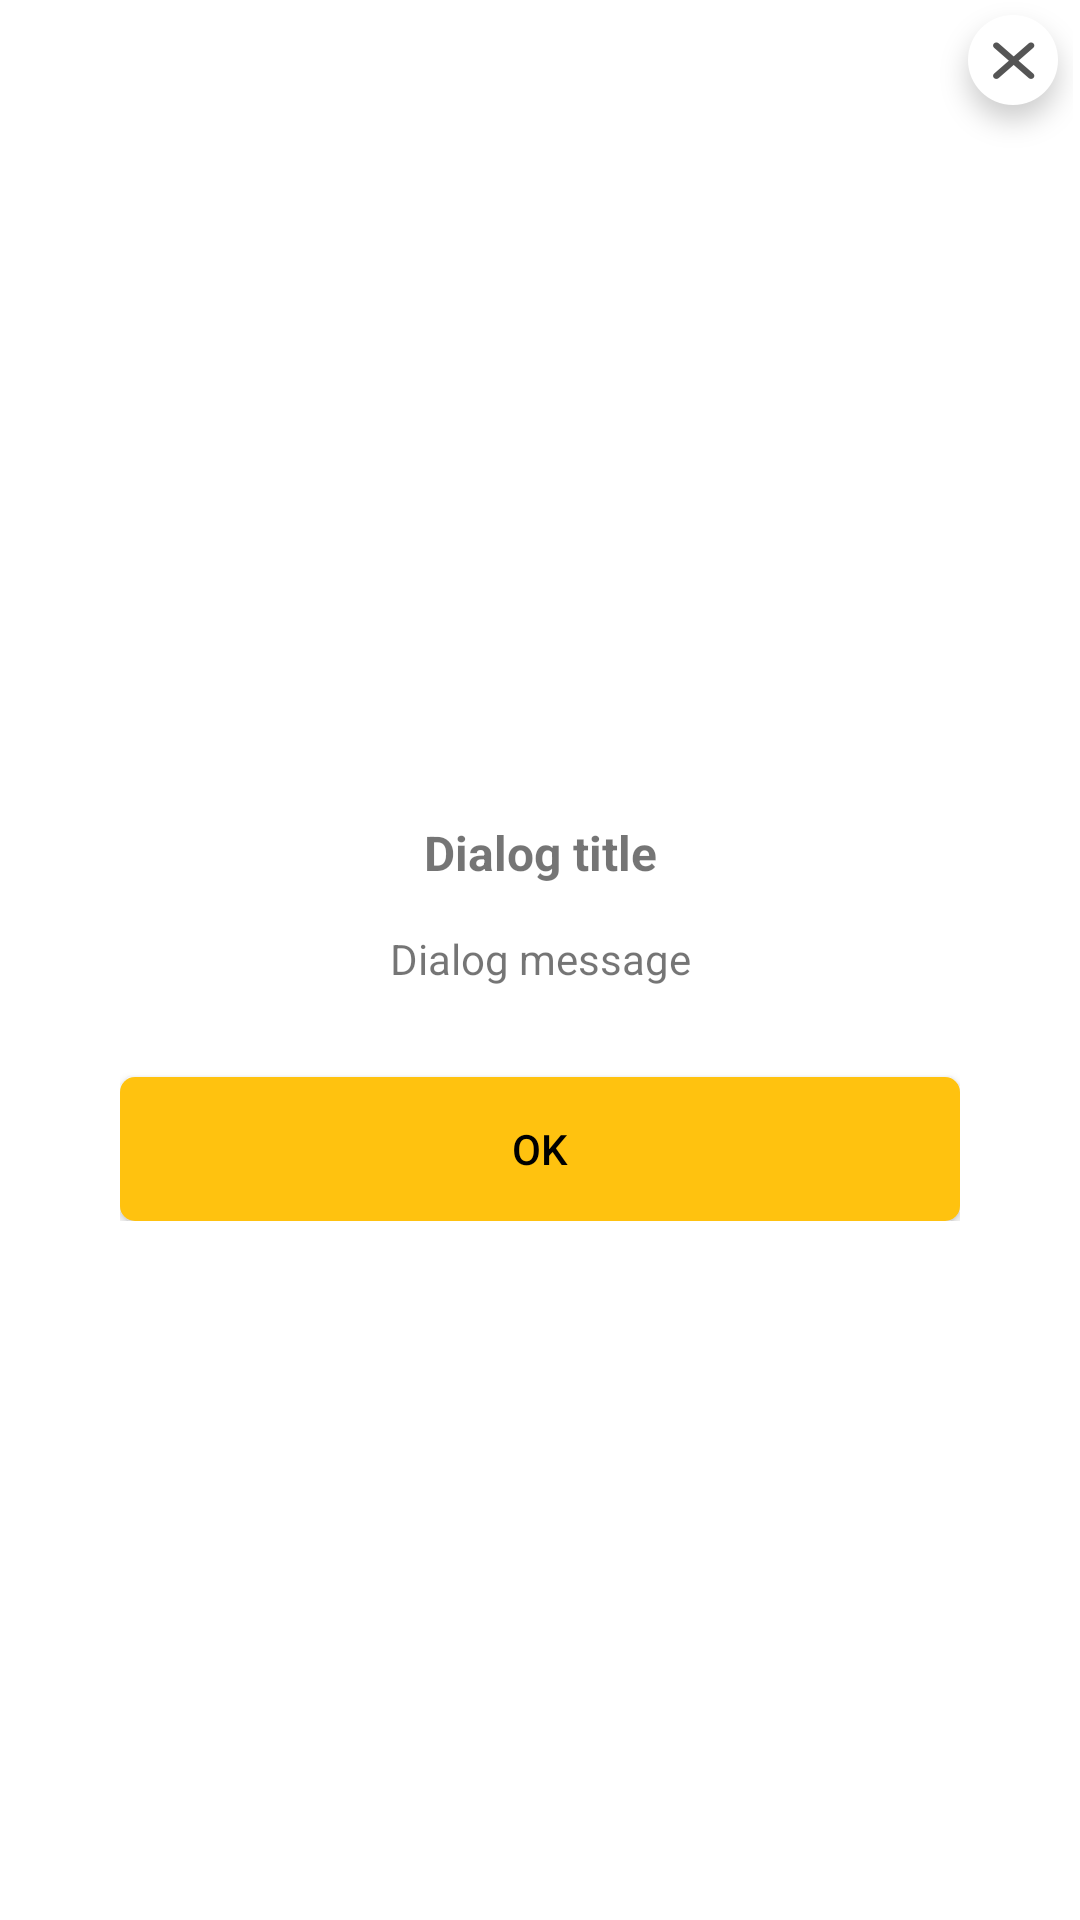

Icons on this 1080w x 1920h Android screen, each with the point to tap as (x,y):
close: (1013,80)
